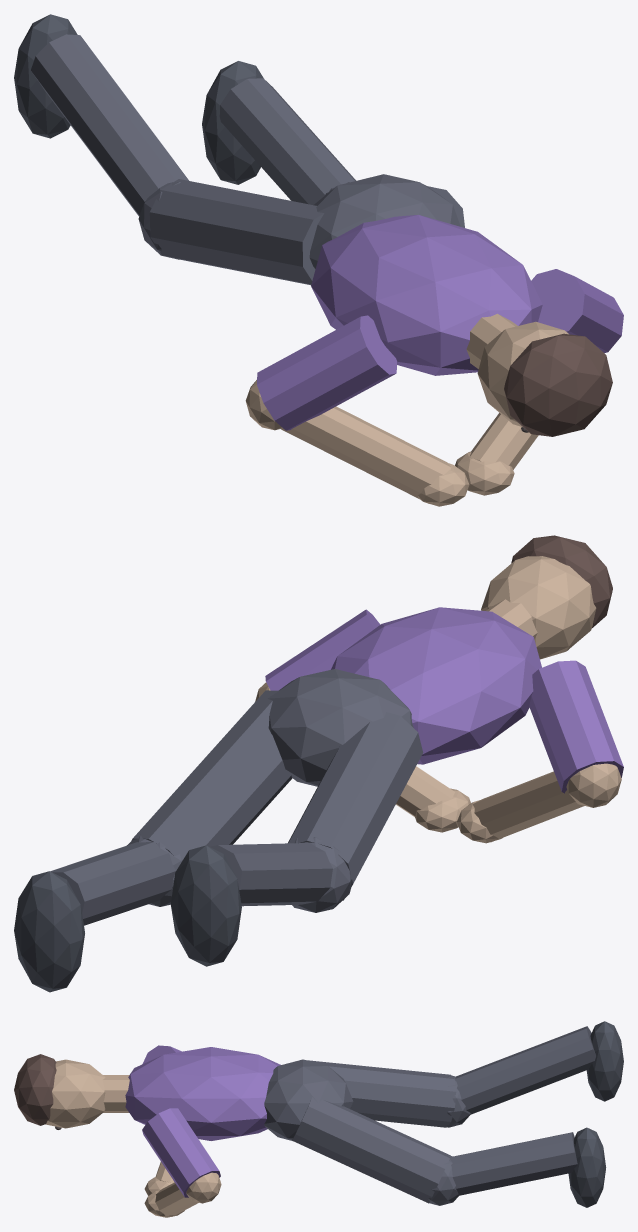
3 renders of one model, top to bottom at view 1: azimuth 30°, elevation 25°; view 2: azimuth 150°, elevation 25°; view 3: azimuth 270°, elevation 25°, orthographic. The views are drawn at different scales.
Visible parts, largest first — view 1: world; view 2: world; view 3: world.
Part boxes in pixels (x1,y1,x2,y2): world: [14, 14, 623, 506]; world: [14, 535, 623, 992]; world: [14, 1021, 623, 1217].
Size of the model in its own units: 0.93 by 0.6103 by 2.06.
